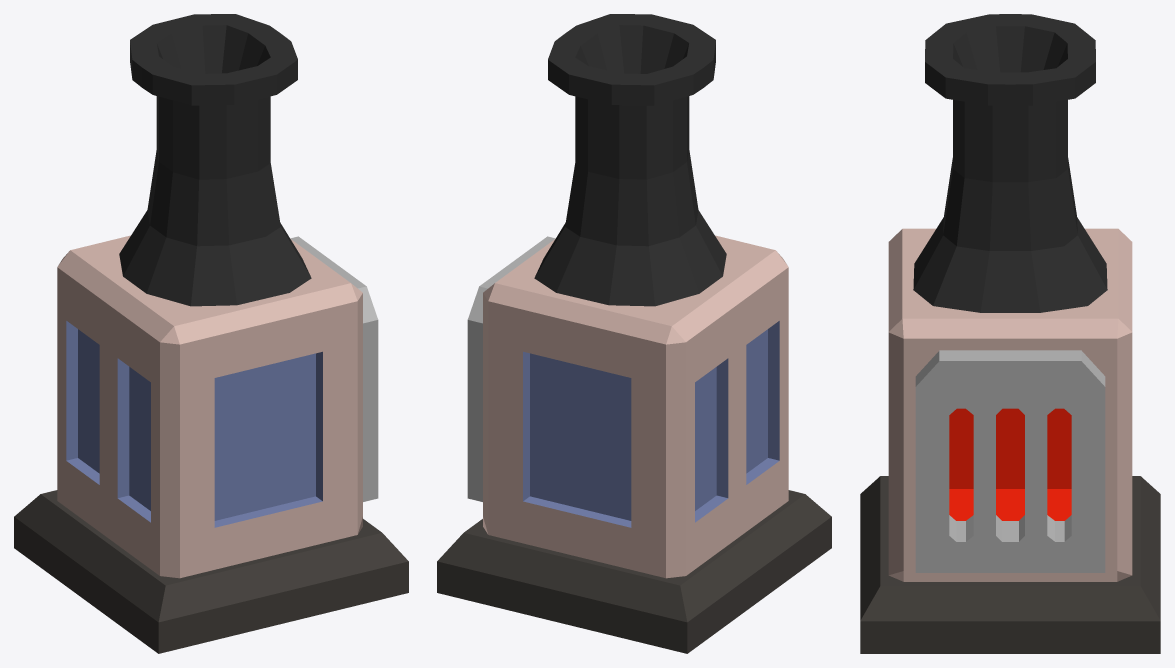
Rendered from CrystalFurnace.fbx.
3 renders of one model, left to right at view 1: azimuth 30°, elevation 25°; view 2: azimuth 150°, elevation 25°; view 3: azimuth 270°, elevation 25°, orthographic. The views are drawn at different scales.
Visible parts, largest first — view 1: Furnace, Base; view 2: Furnace, Base; view 3: Furnace, Base.
Part boxes in pixels (x1,y1,x2,y2): Furnace: (57, 14, 378, 578); Base: (14, 490, 408, 653); Furnace: (467, 14, 788, 578); Base: (437, 490, 831, 653); Furnace: (888, 14, 1132, 581); Base: (860, 476, 1160, 653).
Size of the model in its own units: 90.66 by 180 by 90.66.
